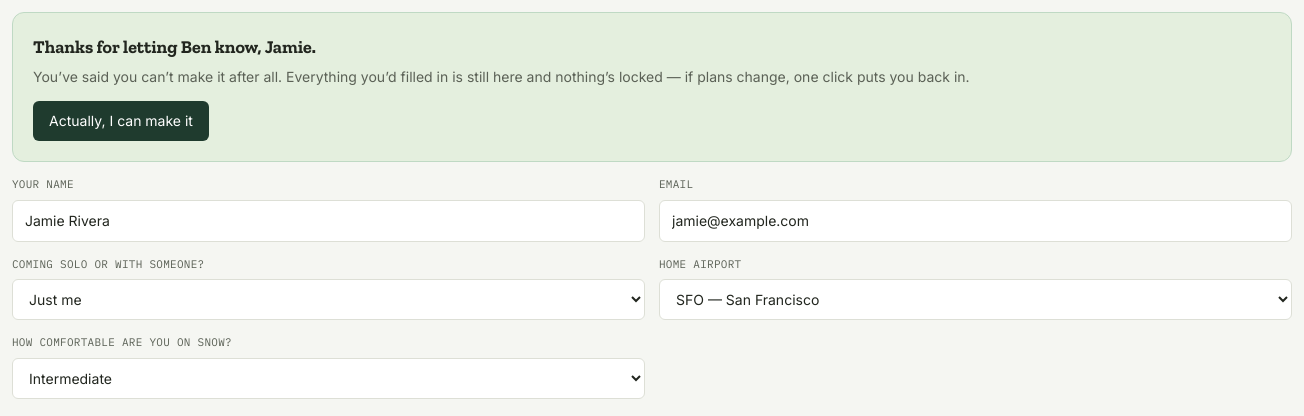
Test: DeclinedPanel — both rows, a respondent row already exists › undoes the decline with a DELETE and clears it on success
What coordinates should you click on to do the following:
click the button "Actually, I can make it"
I would click on:
 (121, 121)
Its box is [33, 101, 209, 141].
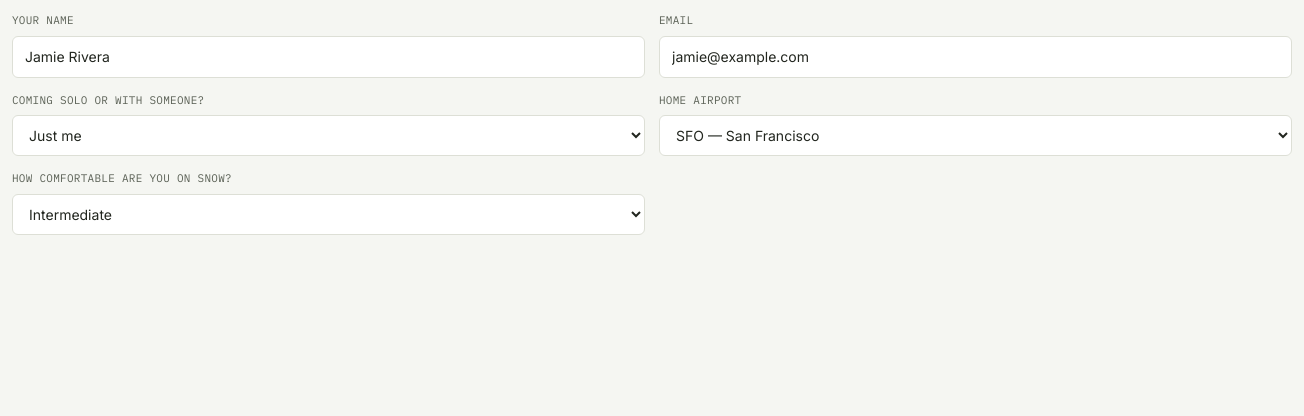
Check: the heading "Thanks for letting Ben know" is gone
